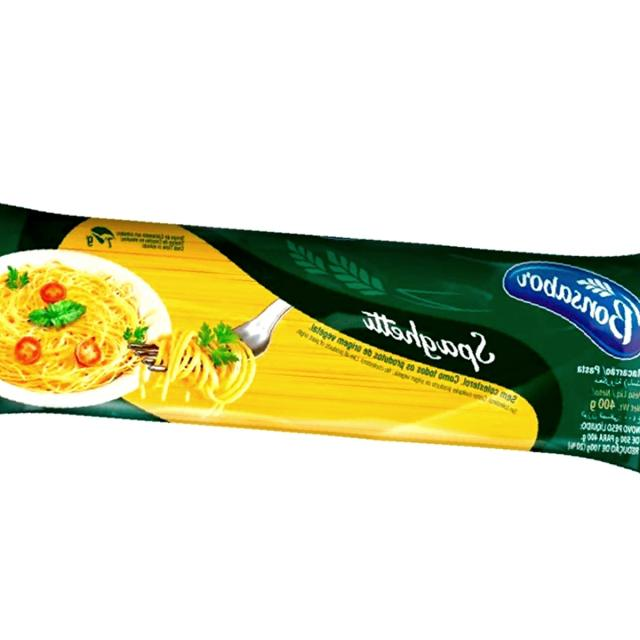pasta package: (0, 206, 639, 470)
